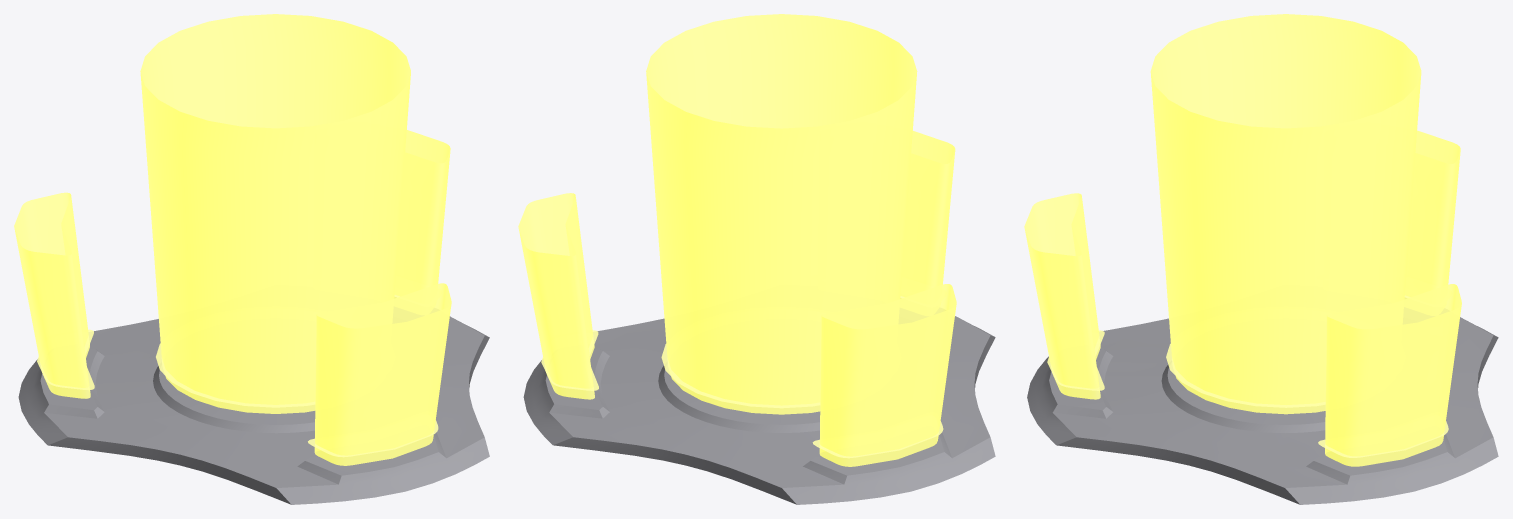
File: BoostPad_Small_Active.glb
The picture shows the model from 3 angles, left to right: view 1: azimuth 30°, elevation 25°; view 2: azimuth 150°, elevation 25°; view 3: azimuth 270°, elevation 25°; orthographic projection.
Visible parts, largest first — view 1: Active_Glow_Overlay, BoostPad_Small_Base; view 2: Active_Glow_Overlay, BoostPad_Small_Base; view 3: Active_Glow_Overlay, BoostPad_Small_Base.
Part boxes in pixels (bbox=[...]): Active_Glow_Overlay: bbox=[14, 14, 451, 465]; BoostPad_Small_Base: bbox=[18, 316, 489, 504]; Active_Glow_Overlay: bbox=[518, 14, 956, 466]; BoostPad_Small_Base: bbox=[523, 316, 995, 504]; Active_Glow_Overlay: bbox=[1024, 14, 1461, 466]; BoostPad_Small_Base: bbox=[1027, 317, 1498, 504].
Size of the model in its own units: 0.9571 by 0.6738 by 0.8888.
